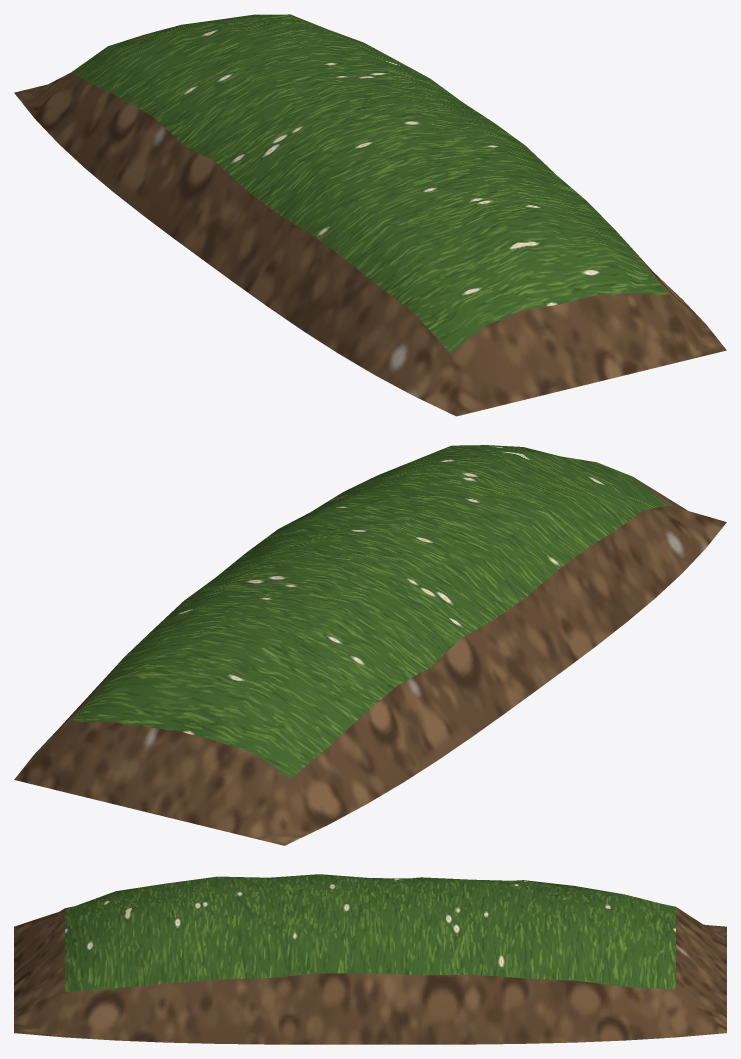
File: SE_Grave_Mound.glb
The picture shows the model from 3 angles, top to bottom: view 1: azimuth 30°, elevation 25°; view 2: azimuth 150°, elevation 25°; view 3: azimuth 270°, elevation 25°; orthographic projection. The views are drawn at different scales.
Parts seen in each view (by area): view 1: SE_Grave_Mound; view 2: SE_Grave_Mound; view 3: SE_Grave_Mound.
Boxes of the visible parts, x1,y1,x2,y2 form: SE_Grave_Mound: [14, 14, 726, 416]; SE_Grave_Mound: [14, 445, 726, 845]; SE_Grave_Mound: [14, 874, 726, 1044].
Size of the model in its own units: 0.84 by 0.2589 by 1.95.
Materials: 1 (1 with a texture image).
